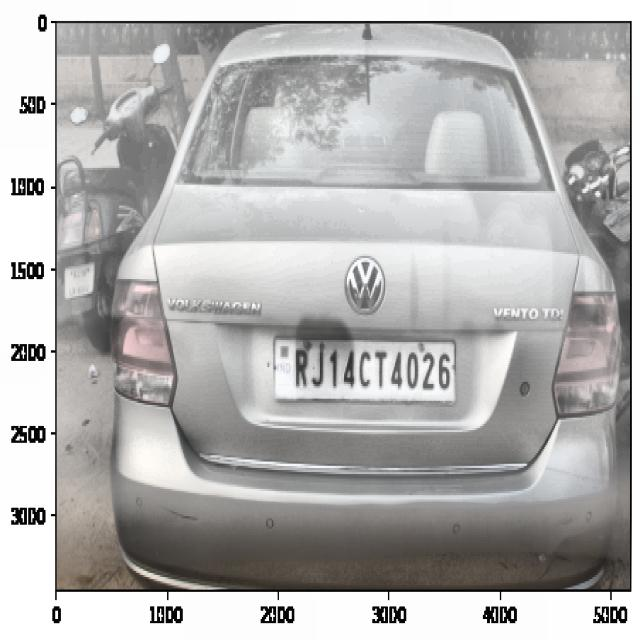license_plate: (288, 341, 455, 404)
